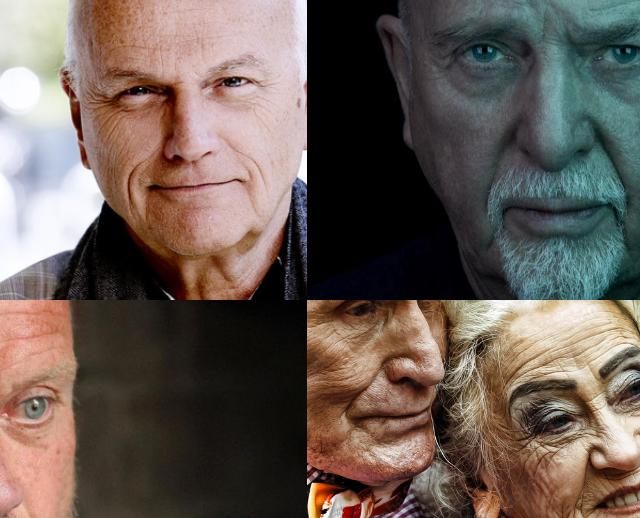crows_feet: (85, 84, 114, 121), (514, 431, 546, 457), (256, 68, 282, 94), (433, 47, 455, 73)
forehead: (506, 352, 546, 382), (548, 342, 582, 370), (585, 320, 619, 346), (8, 300, 44, 322), (109, 38, 158, 54), (25, 324, 57, 348), (190, 29, 210, 55)
frown_line: (536, 10, 550, 46), (586, 390, 608, 412)
gummy_smile: (597, 135, 627, 185), (233, 147, 271, 181), (119, 160, 137, 208), (341, 384, 365, 414), (574, 466, 592, 506), (483, 170, 497, 202)
masseter: (549, 510, 580, 518)
